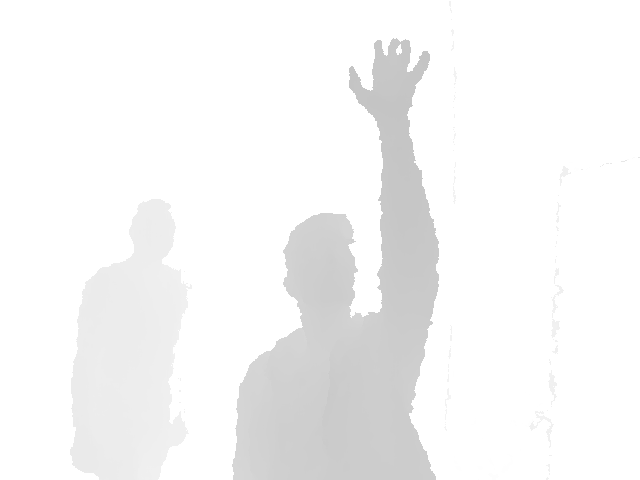hand: (347, 37, 431, 128)
head: (283, 211, 358, 325), (128, 197, 176, 266)
person: (230, 36, 441, 480), (69, 196, 189, 480)
